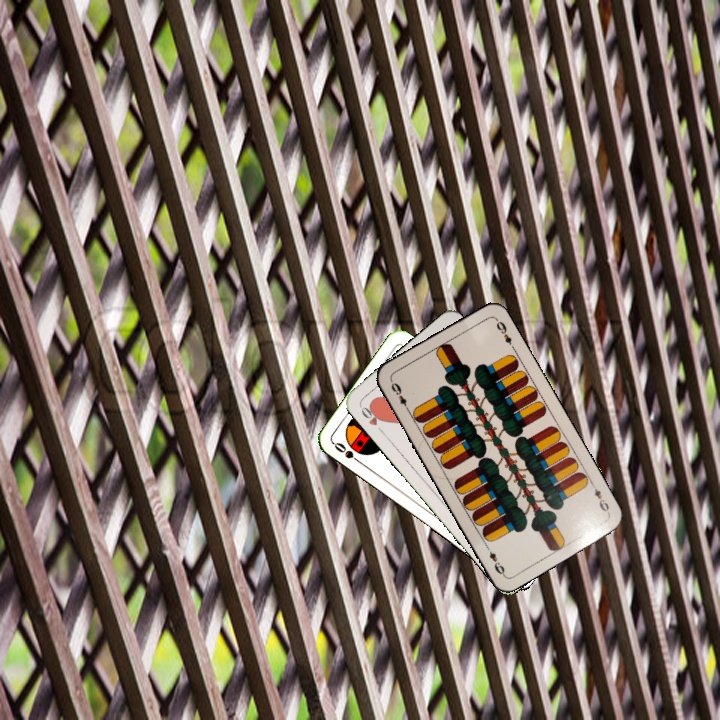E9: (387, 377, 412, 414), (587, 479, 612, 516)
HO: (356, 401, 387, 436)
SO: (330, 438, 366, 467)
